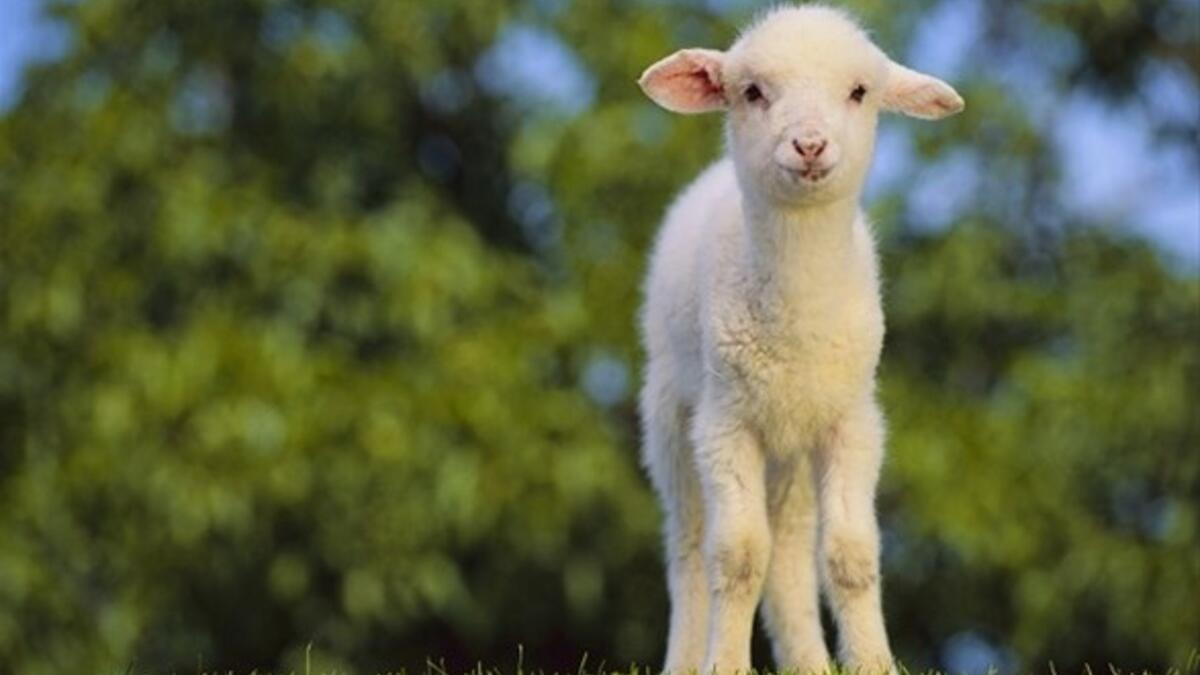koyun: (641, 1, 959, 668)
